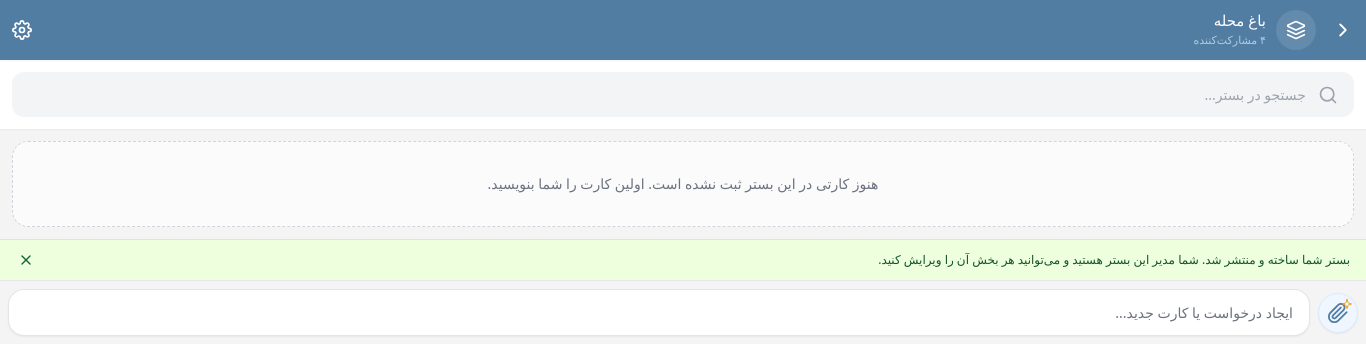
Test: SpacePage: the notice after a space is built › can be dismissed, because it is a greeting and not a state
Expected: the text "ساخته و منتشر شد" is shown, [878,251,1350,268]
Click the button named "بستن پیام". click: [26, 260]
box: [16,250,36,270]
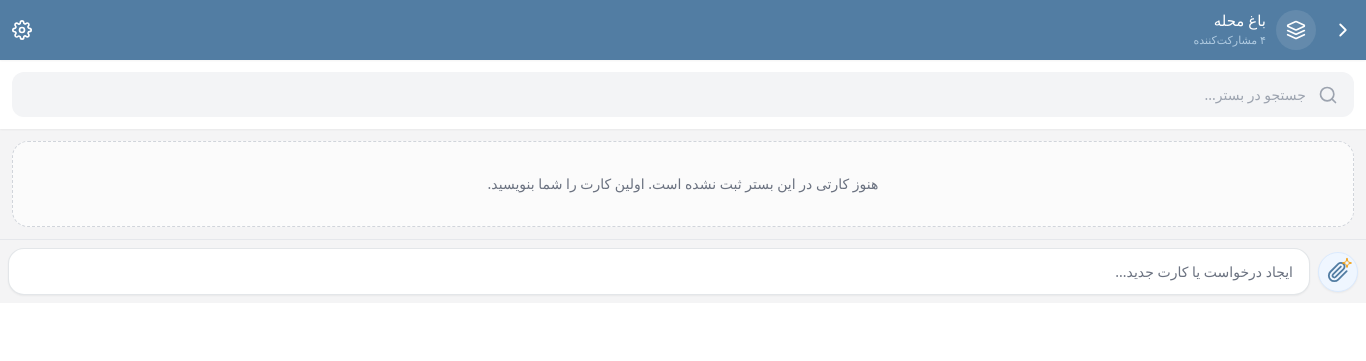
Expected: the text "ساخته و منتشر شد" is gone
